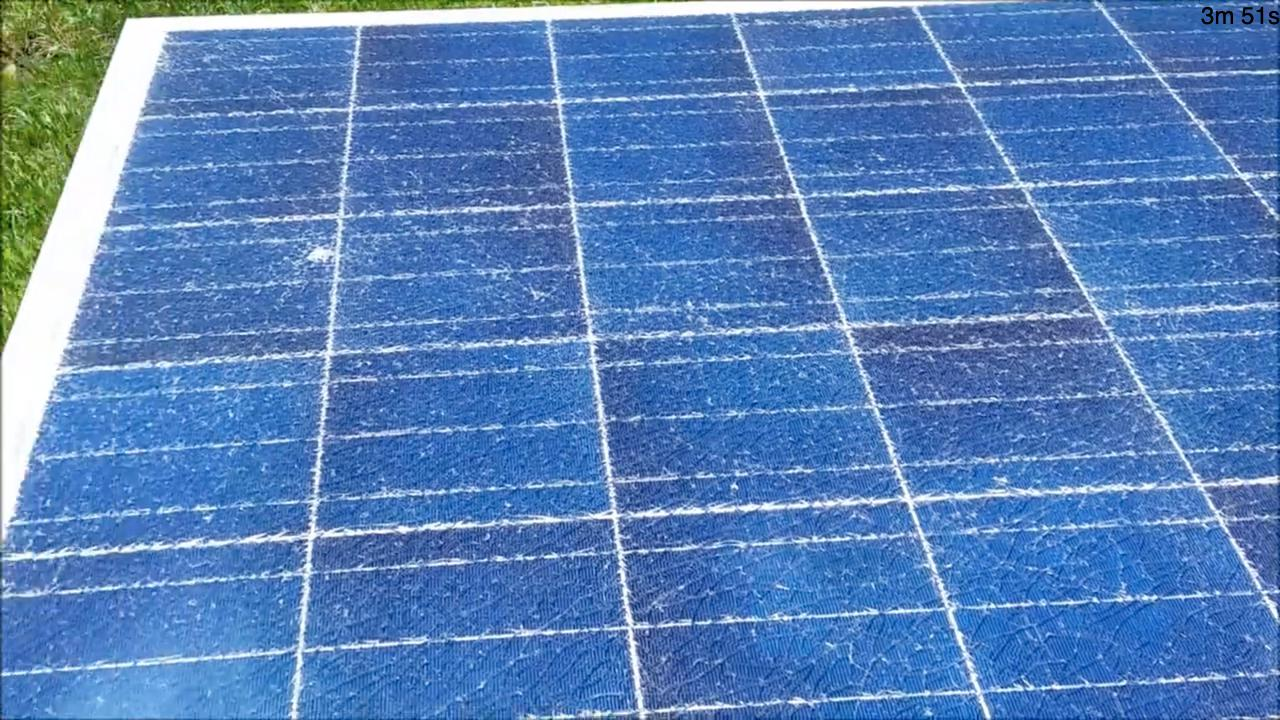Crack: (288, 221, 366, 284)
